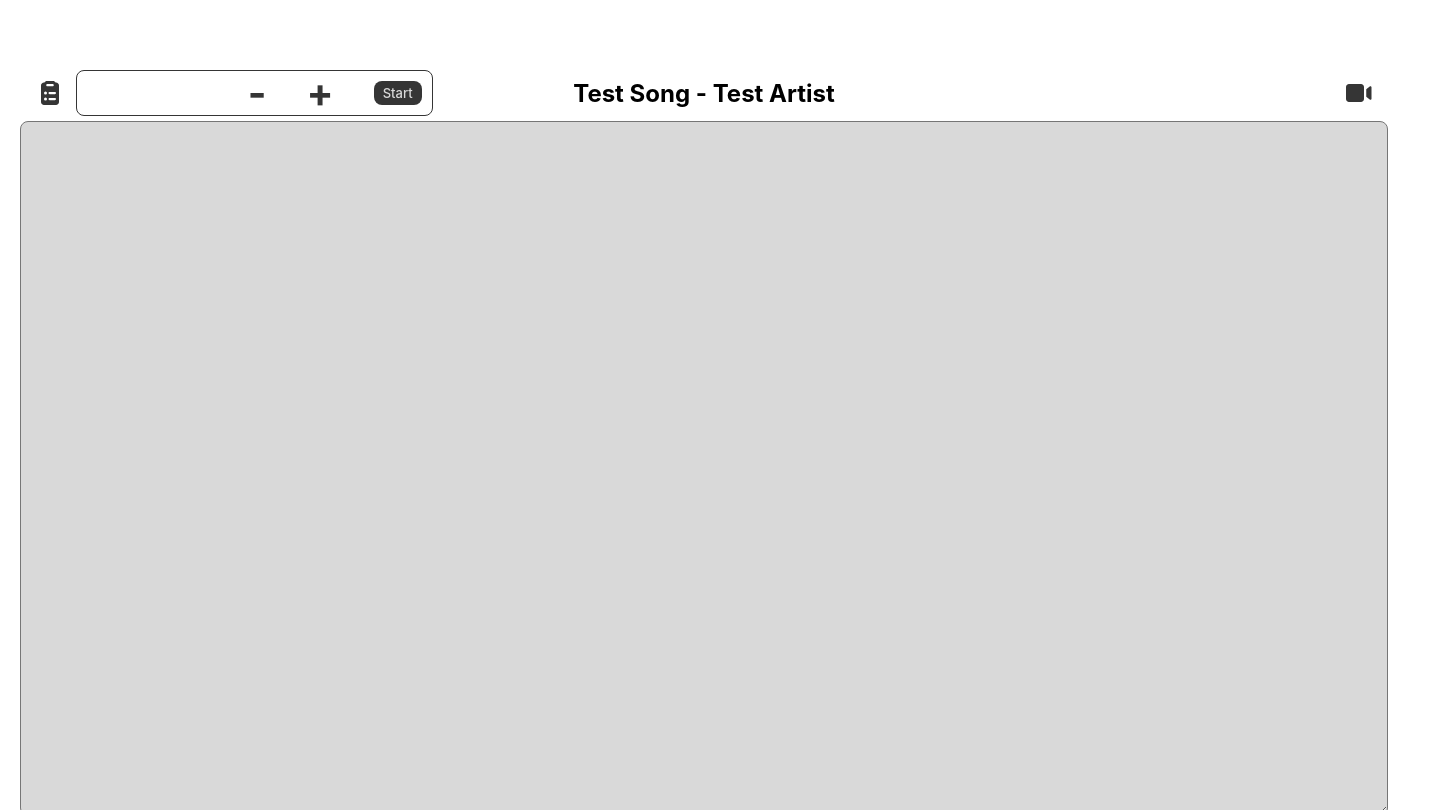
Test case: SongDisplay › toggles to Stop when scrolling starts
Click the button "Start": (398, 93) [374,81,422,105]
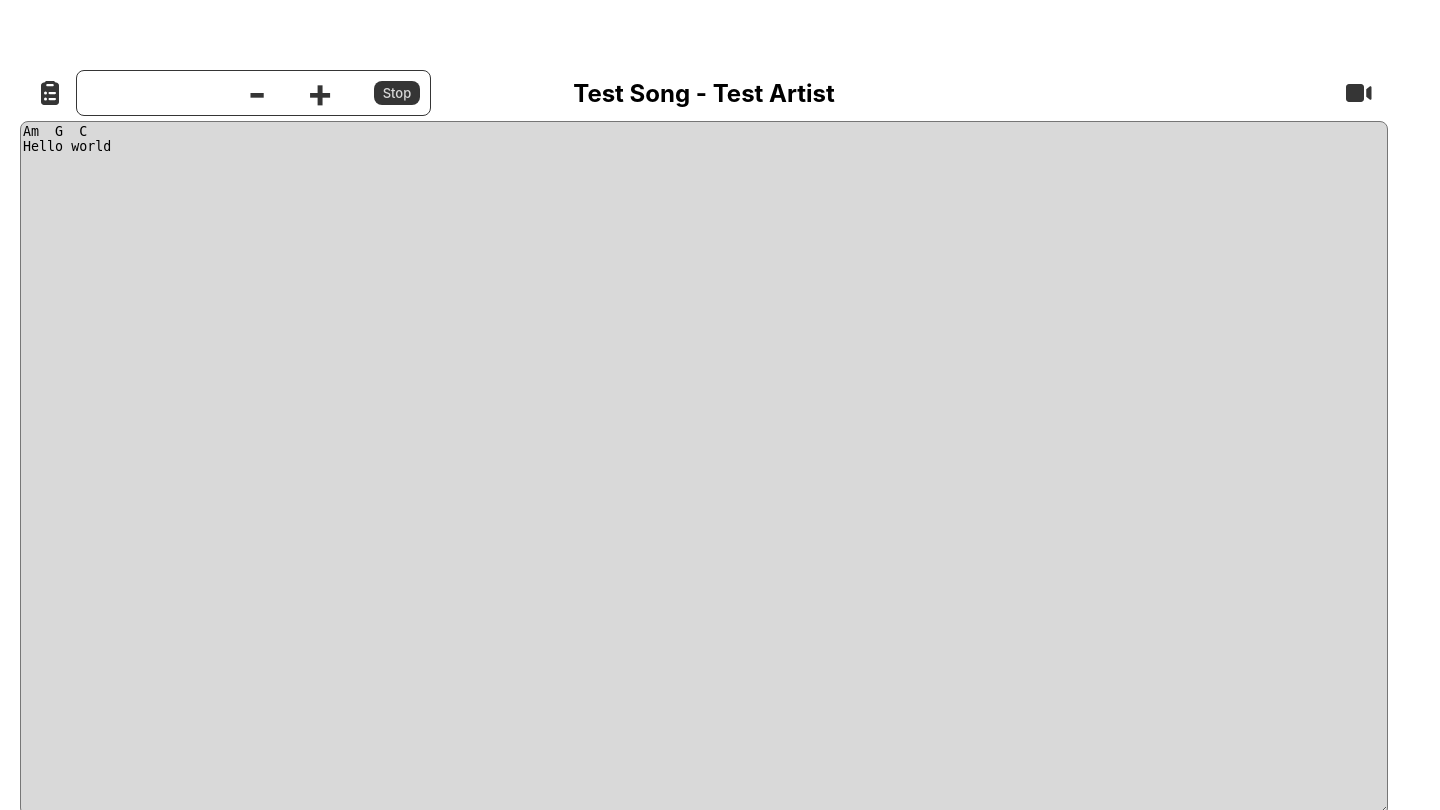
Check: the button "Stop" is shown, box [374,81,420,105]
